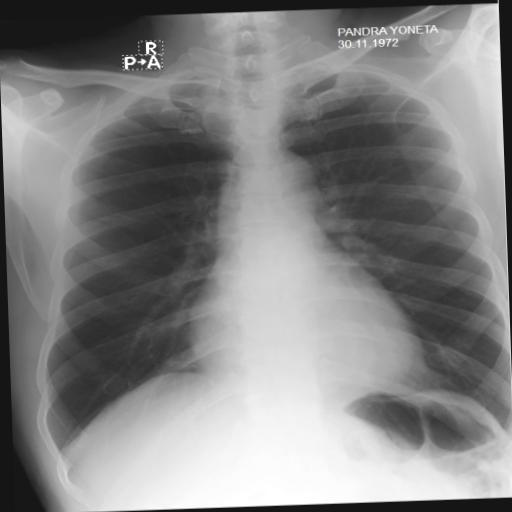normal: (18, 33, 512, 468)
